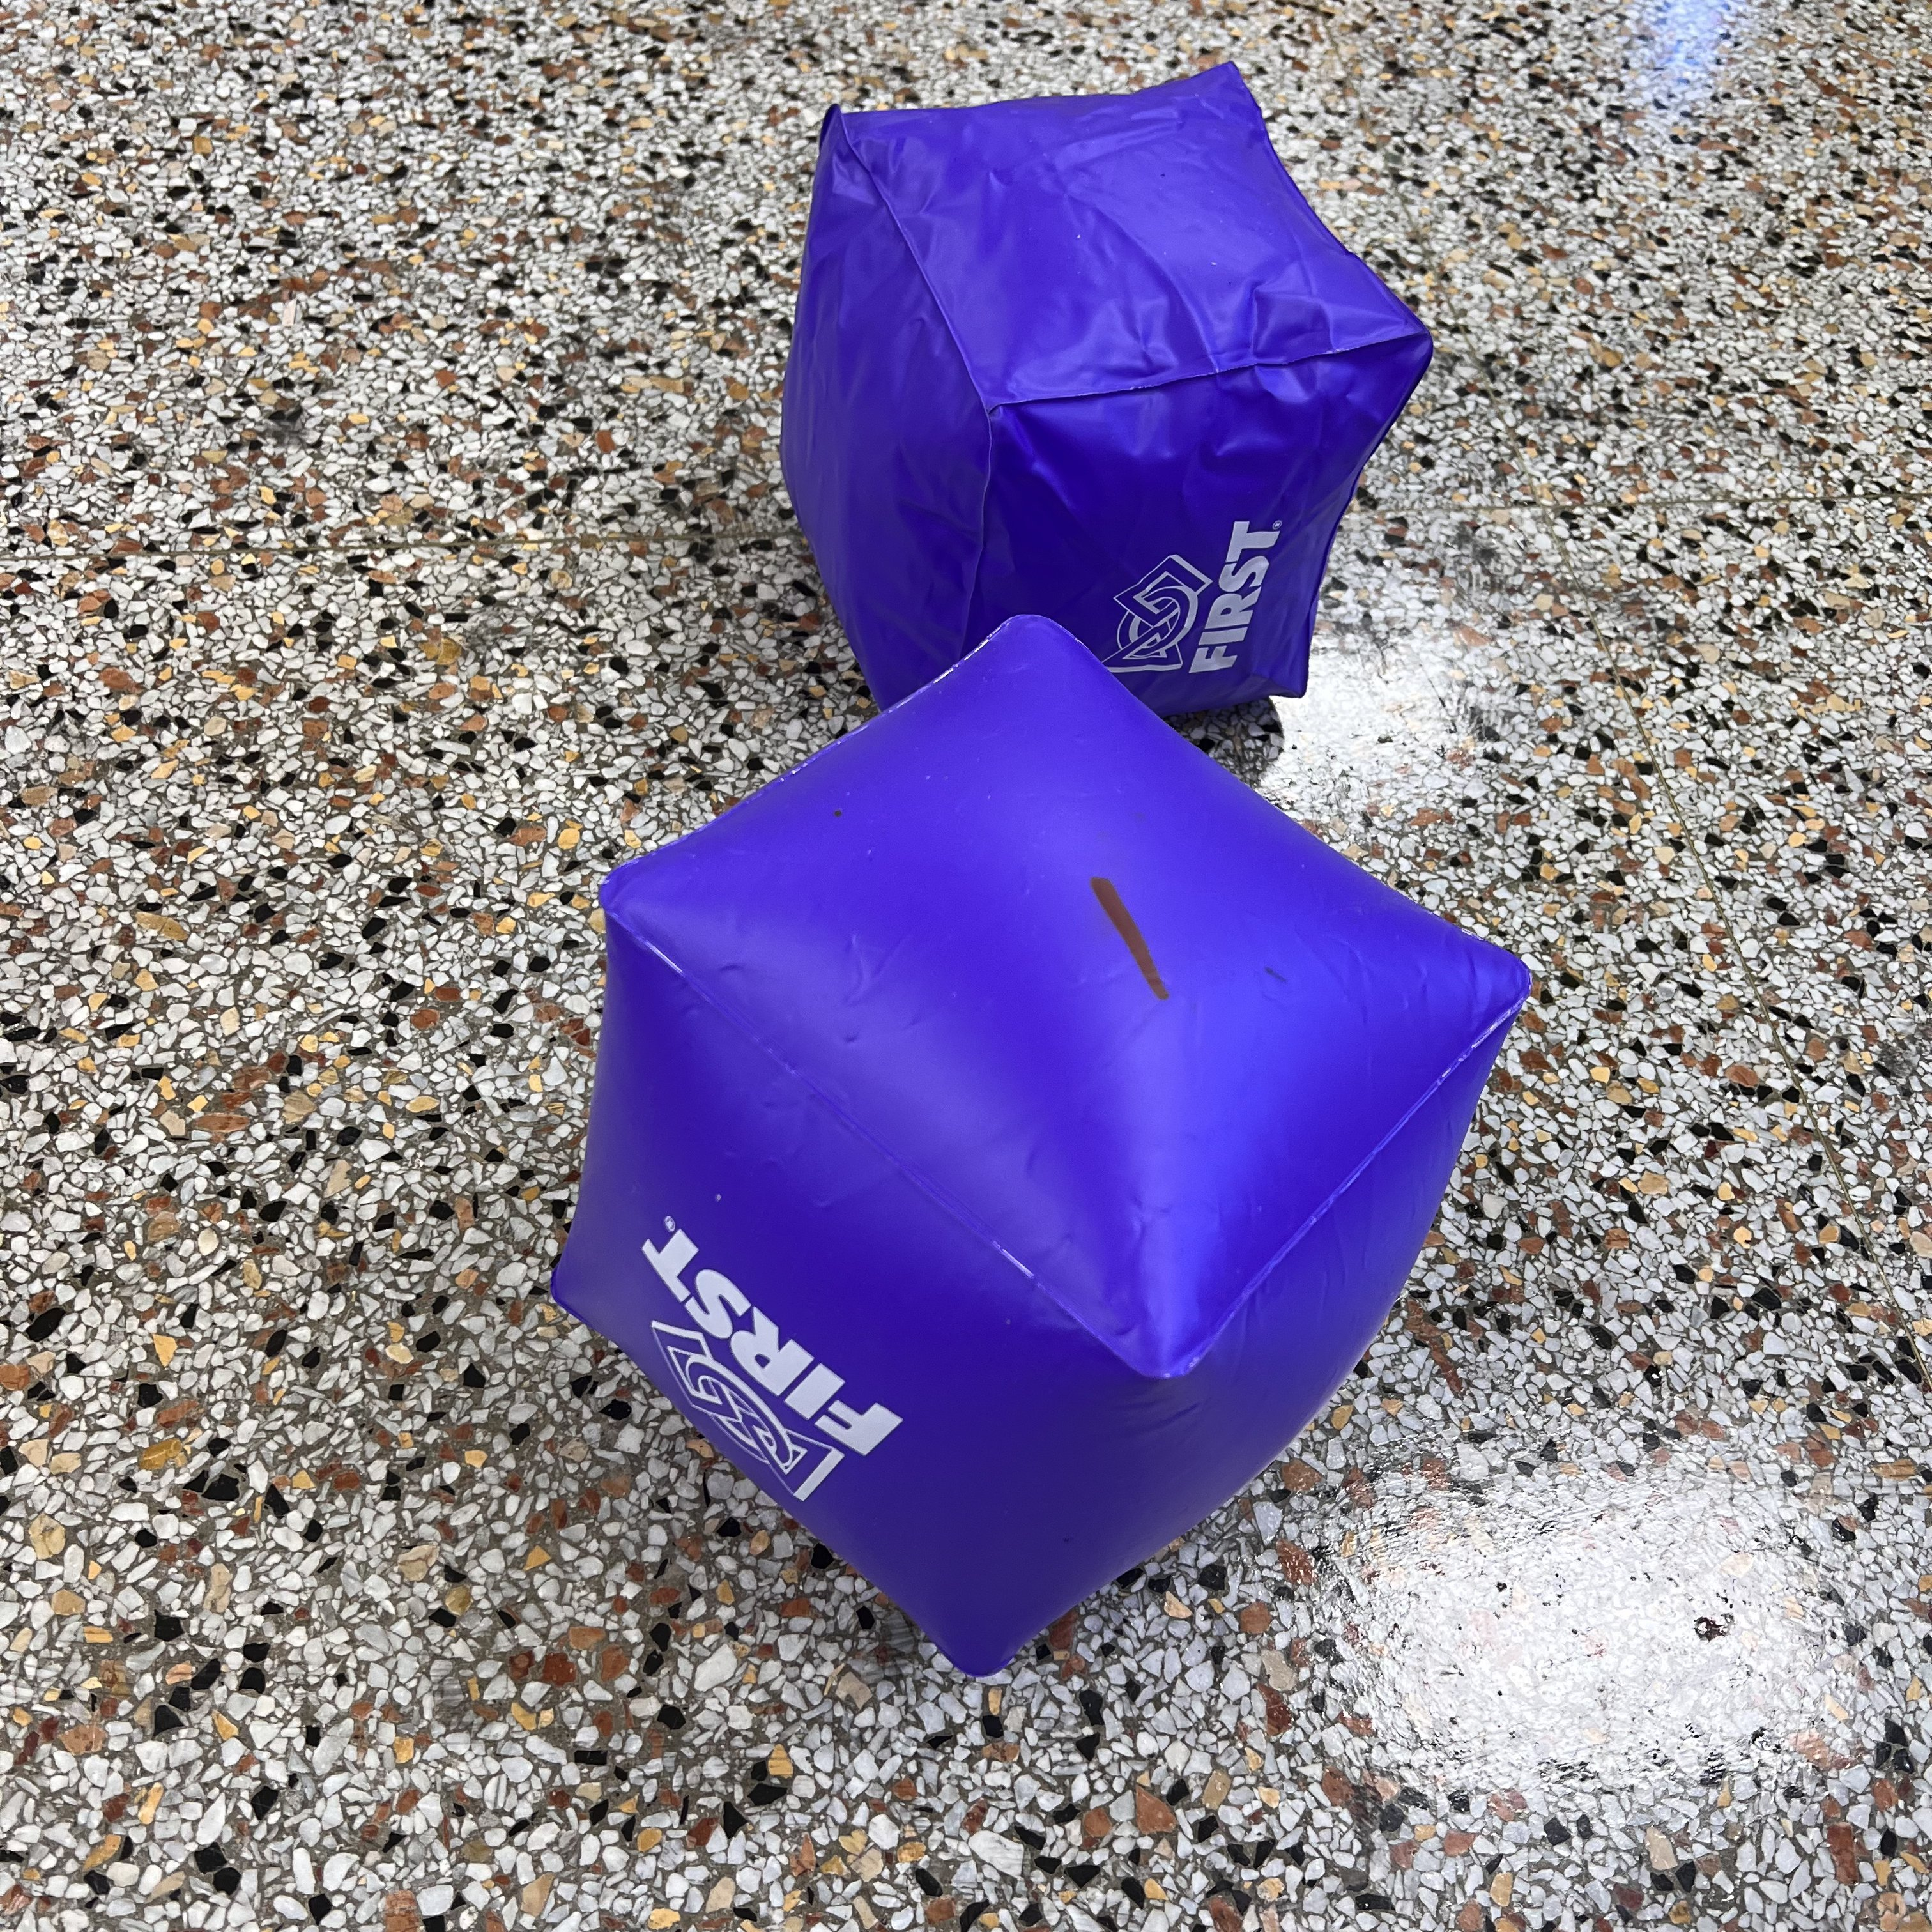cube: (548, 614, 1530, 1675), (780, 60, 1433, 732)
